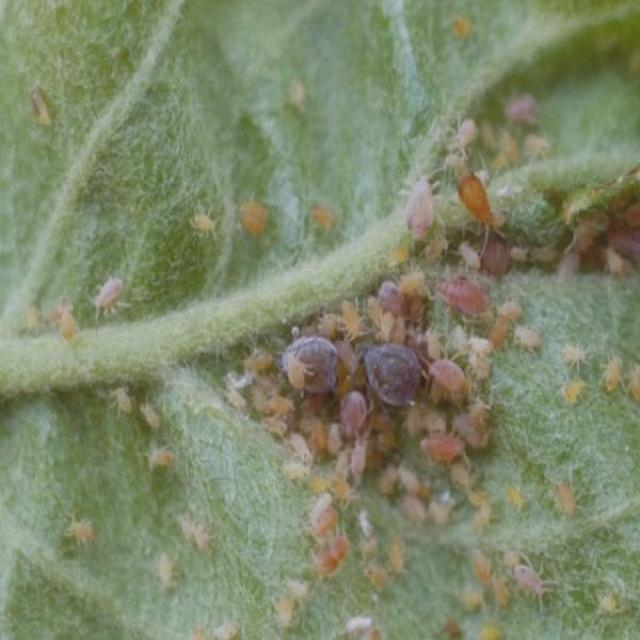Aphid-Grouped-: (230, 250, 504, 518)
Aphid-Grown-: (357, 336, 433, 410), (278, 337, 353, 402), (392, 166, 443, 239), (84, 268, 138, 319), (184, 202, 228, 249)
